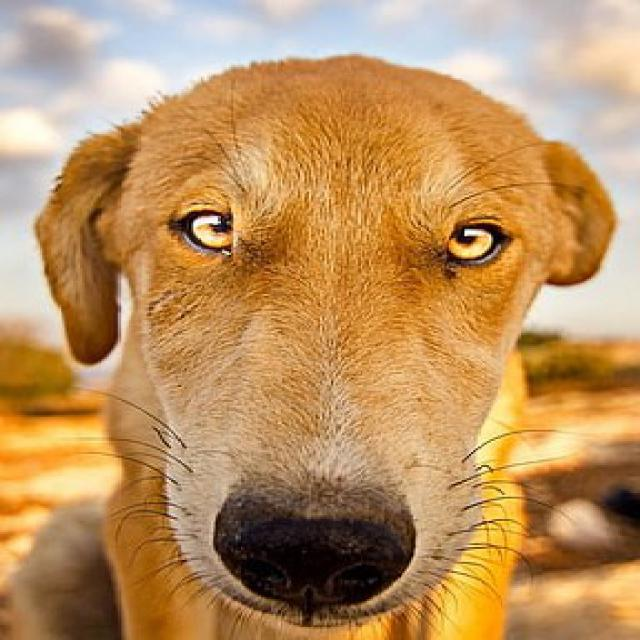eye: (168, 200, 246, 260), (438, 213, 514, 274)
